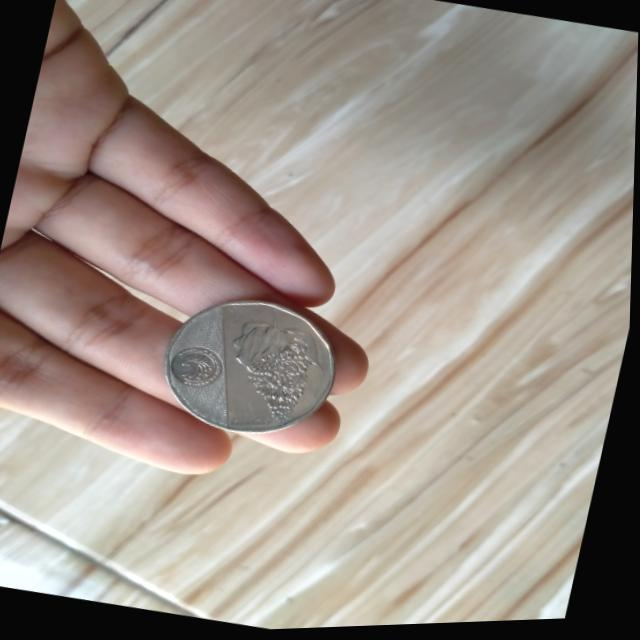10_New_Back: (211, 301, 341, 445)
